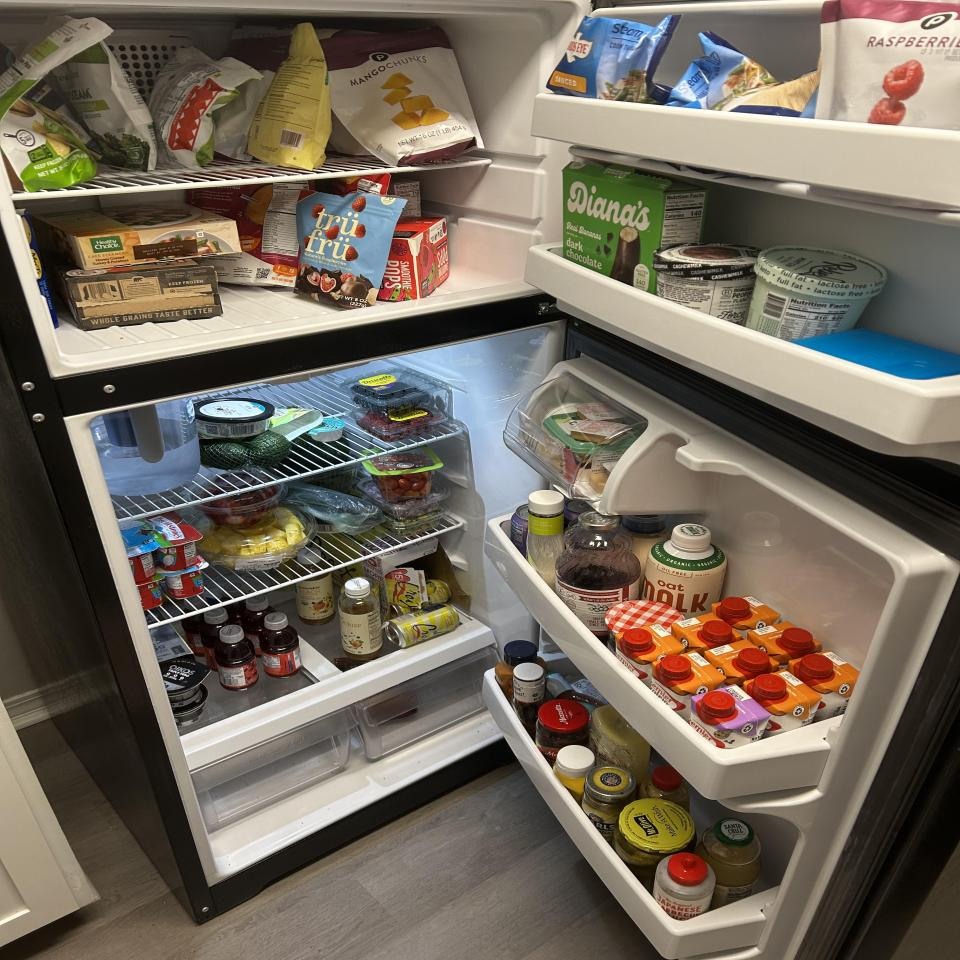Aguacate: (198, 438, 248, 470), (249, 432, 292, 467)
Tomate: (360, 444, 444, 501)
mustard: (589, 706, 651, 786), (552, 745, 595, 806)
strawberries: (188, 471, 289, 527)
